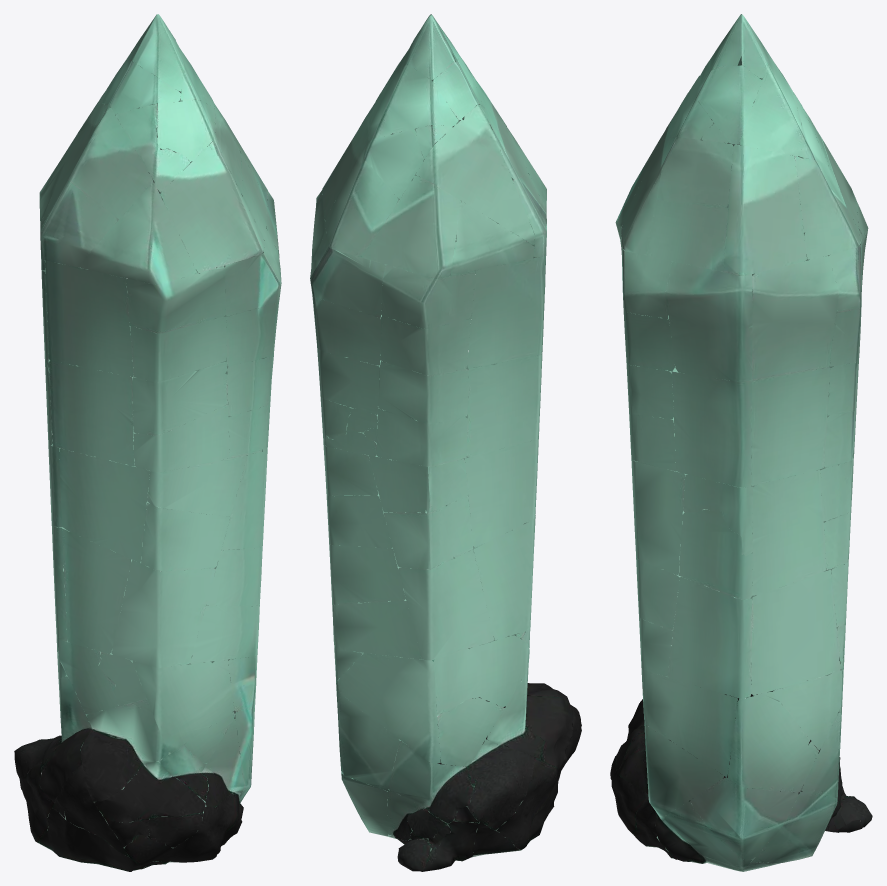
Rendered from crystal-shard-single.glb.
3 renders of one model, left to right at view 1: azimuth 30°, elevation 25°; view 2: azimuth 150°, elevation 25°; view 3: azimuth 270°, elevation 25°, orthographic. The views are drawn at different scales.
Visible parts, largest first — view 1: mesh_node; view 2: mesh_node; view 3: mesh_node.
Boxes of the visible parts, left/top/right/bottom form: mesh_node: left=14, top=14, right=281, bottom=871; mesh_node: left=310, top=14, right=581, bottom=871; mesh_node: left=610, top=14, right=872, bottom=871.
Size of the model in its own units: 0.185 by 0.6 by 0.1723.
1 material, 1 textured.
